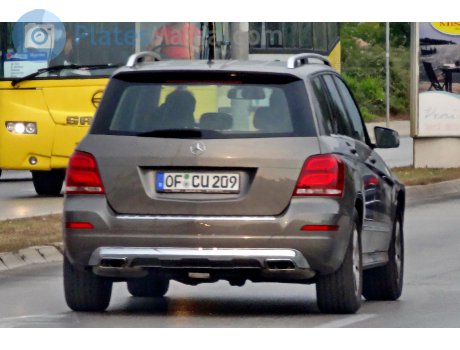License Plates: (163, 174, 238, 190)
